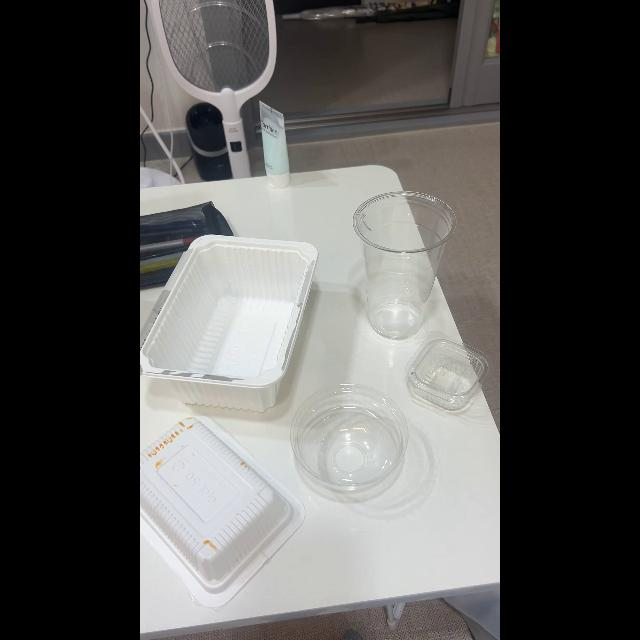clean: (142, 239, 314, 412), (296, 386, 414, 496), (354, 195, 428, 341), (418, 345, 486, 413)
dirty: (141, 418, 281, 582)
